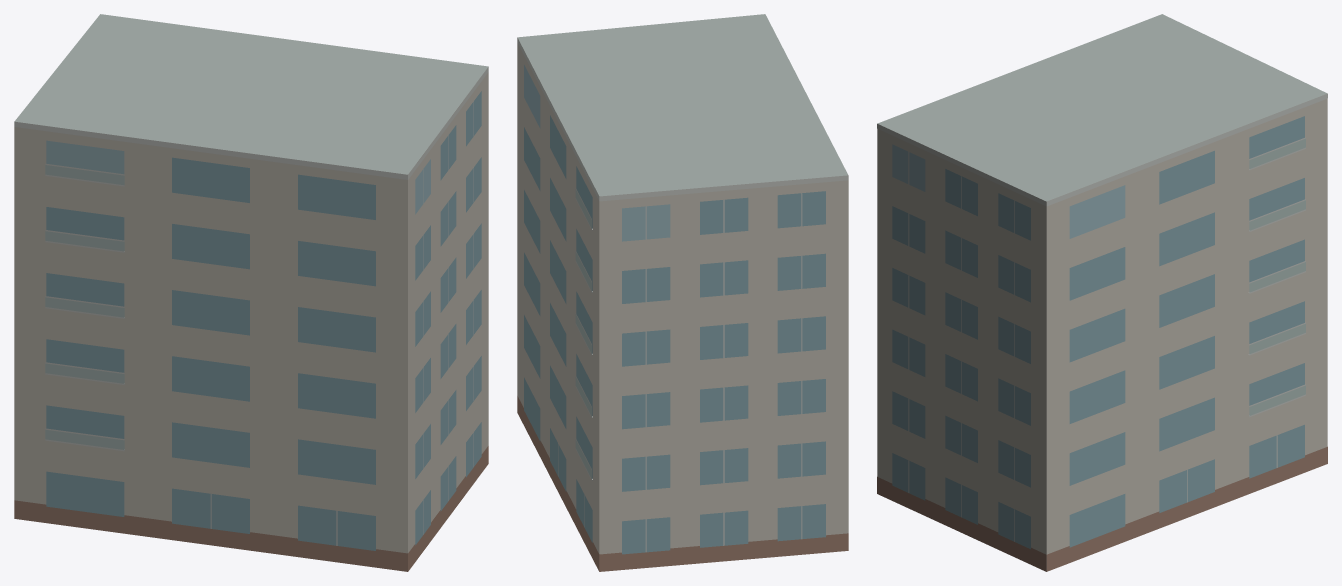
File: survey-upis-32833075.glb
3 renders of one model, left to right at view 1: azimuth 30°, elevation 25°; view 2: azimuth 150°, elevation 25°; view 3: azimuth 270°, elevation 25°, orthographic. The views are drawn at different scales.
Parts seen in each view (by area): view 1: survey-upis-32833075.tmp; view 2: survey-upis-32833075.tmp; view 3: survey-upis-32833075.tmp.
Part boxes in pixels (left/top/right/bottom): survey-upis-32833075.tmp: left=14, top=14, right=488, bottom=571; survey-upis-32833075.tmp: left=517, top=14, right=848, bottom=571; survey-upis-32833075.tmp: left=877, top=14, right=1327, bottom=571.
Size of the model in its own units: 19.89 by 18.3 by 20.19.
